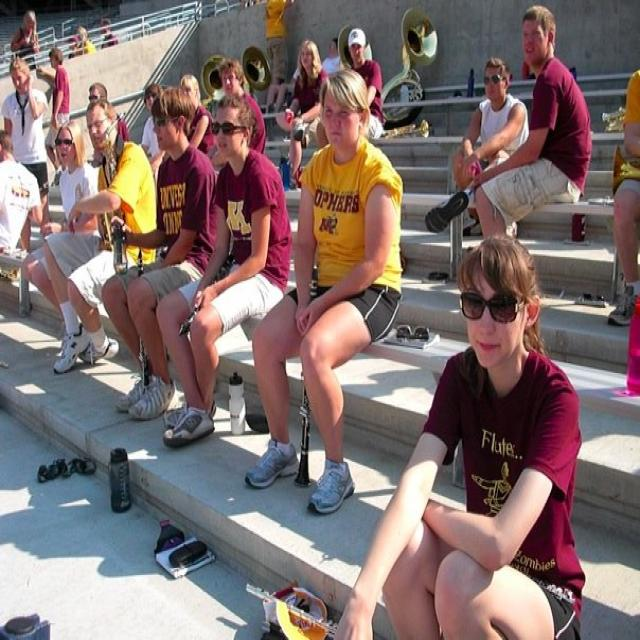clarinet: (288, 262, 325, 490), (176, 252, 238, 336), (134, 247, 146, 396)
